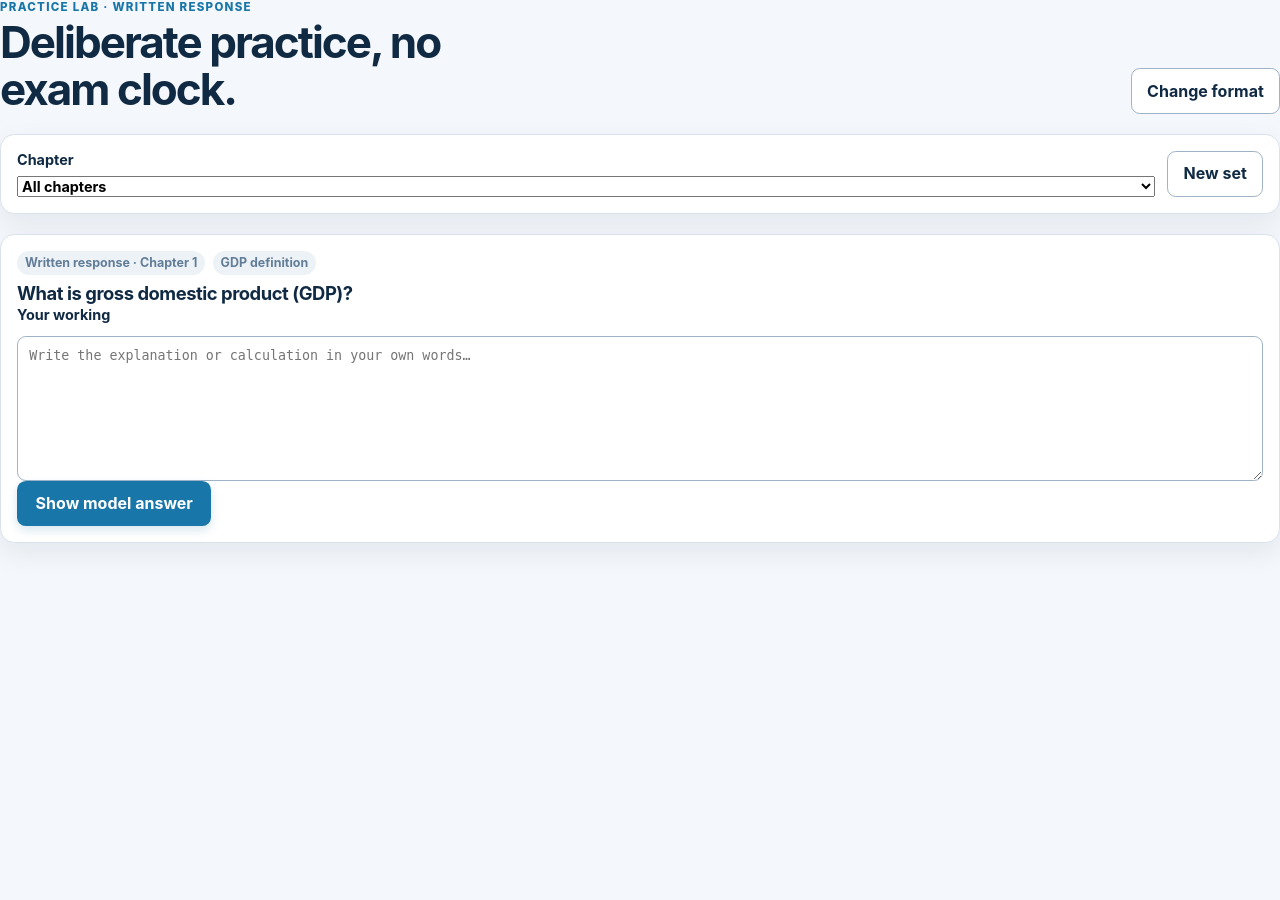
Test: mock and Practice Lab interactions › freezes the written-response rating payload and retries without persisting typed text
Type "private working" into the text box labelled "Your working".
click(640, 408); type("private working")  # box [17,336,1263,481]
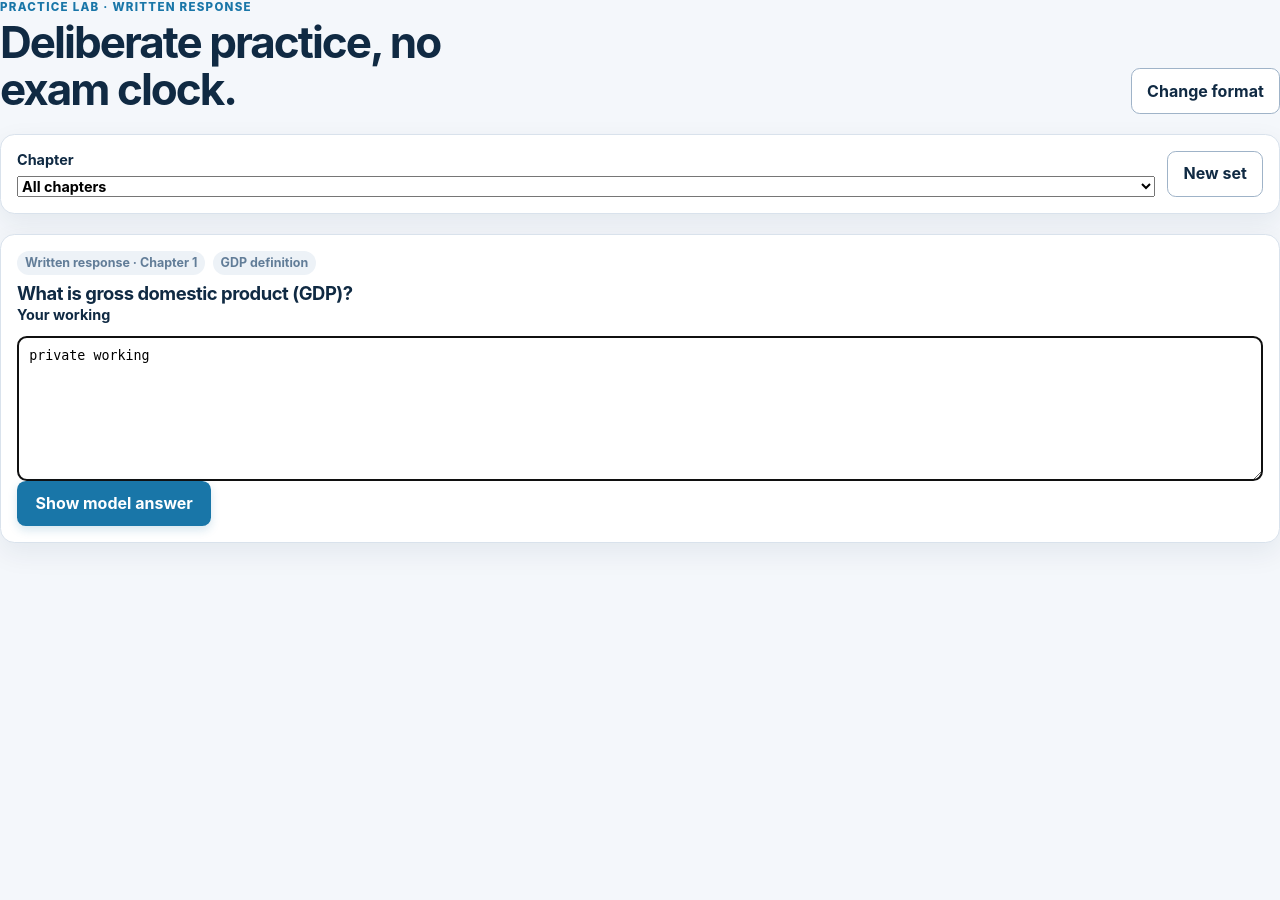
Click the button "Show model answer".
click(114, 503)  # box [17,481,211,526]
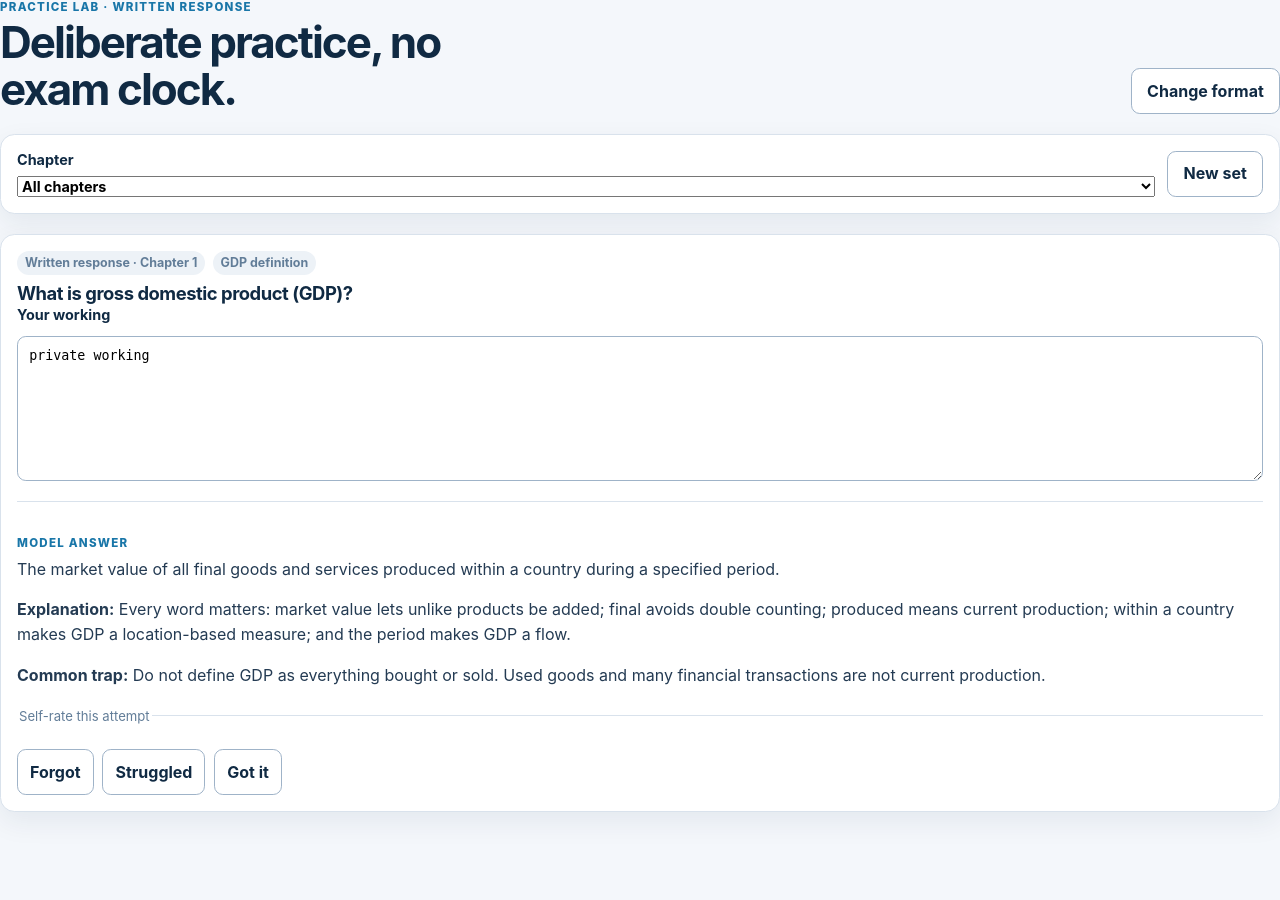
Click the button "Got it".
click(248, 772)  # box [214,749,282,795]
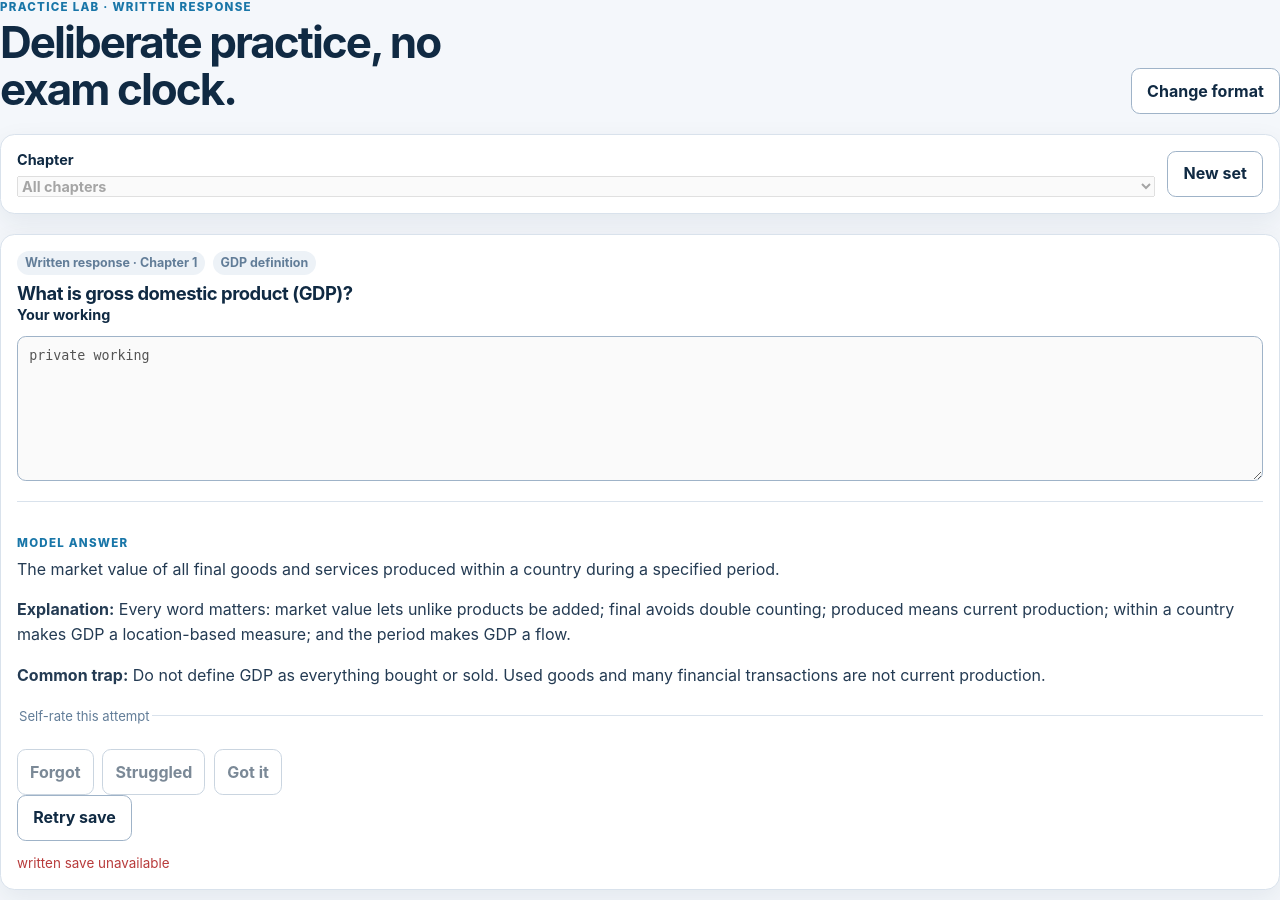
expect the button "Change format" is disabled: met, box [1131,68,1279,114]
expect the text box labelled "Your working" is disabled: met, box [17,336,1263,481]
expect the message reads "written save unavailable": met, box [17,854,170,870]
Click the button "Retry save".
click(75, 818)  # box [17,795,132,840]
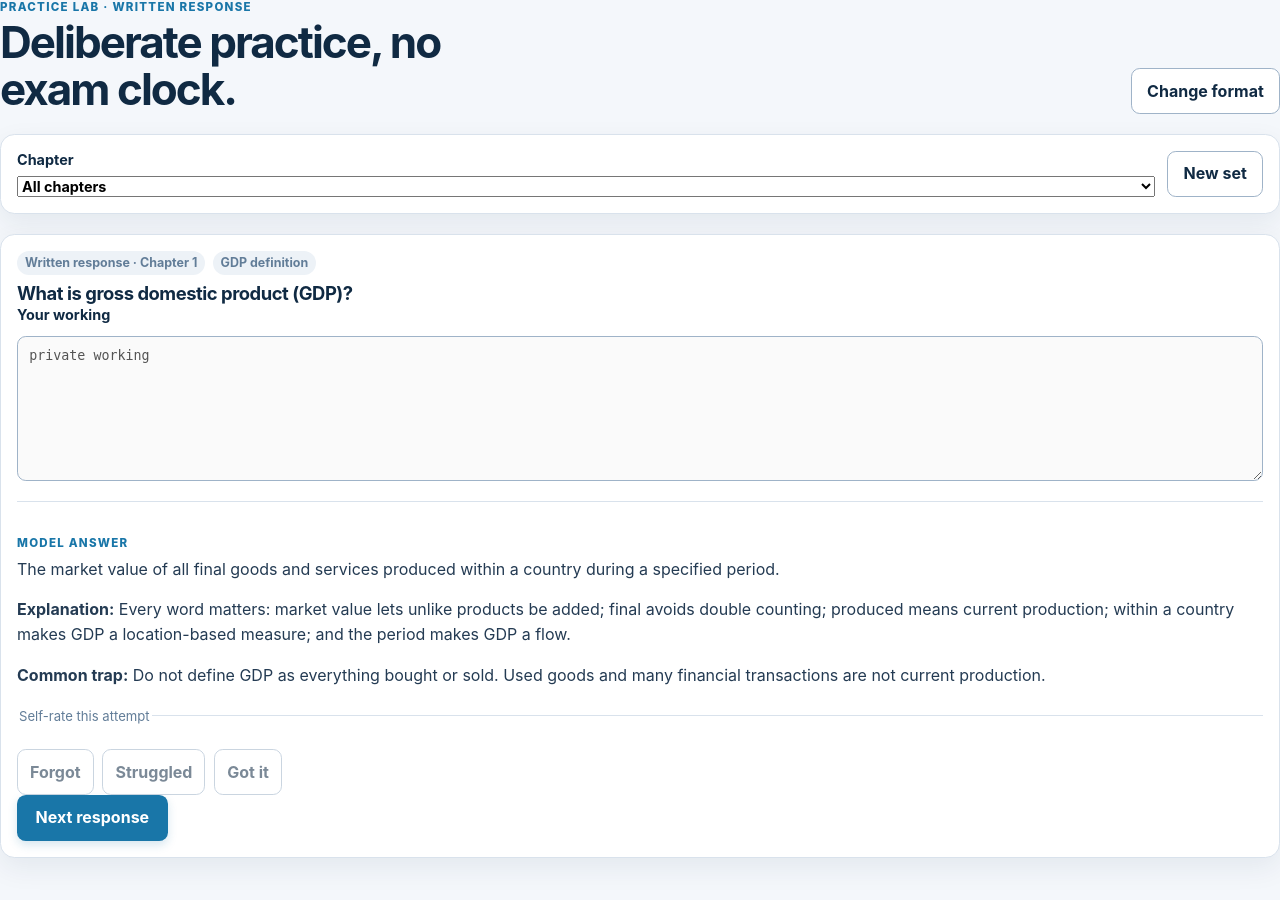
expect the button "Next response" is shown: met, box [17,795,168,840]
